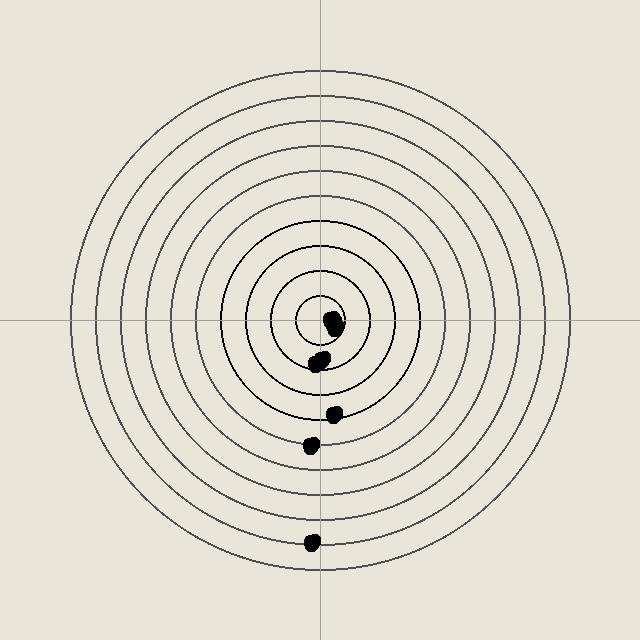vertical_scatter: (322, 312, 342, 332), (311, 349, 331, 369), (301, 532, 321, 552), (300, 435, 320, 455), (305, 353, 325, 373), (323, 404, 343, 424), (324, 317, 344, 337), (320, 309, 340, 329)
